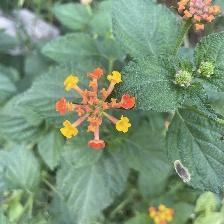common lanthana: (52, 68, 137, 156)
